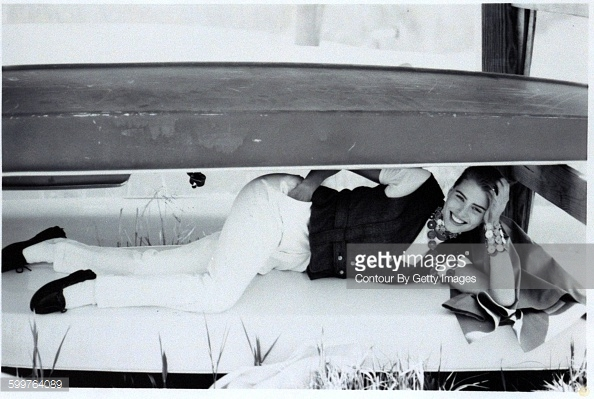deitado: (400, 156, 573, 362)
